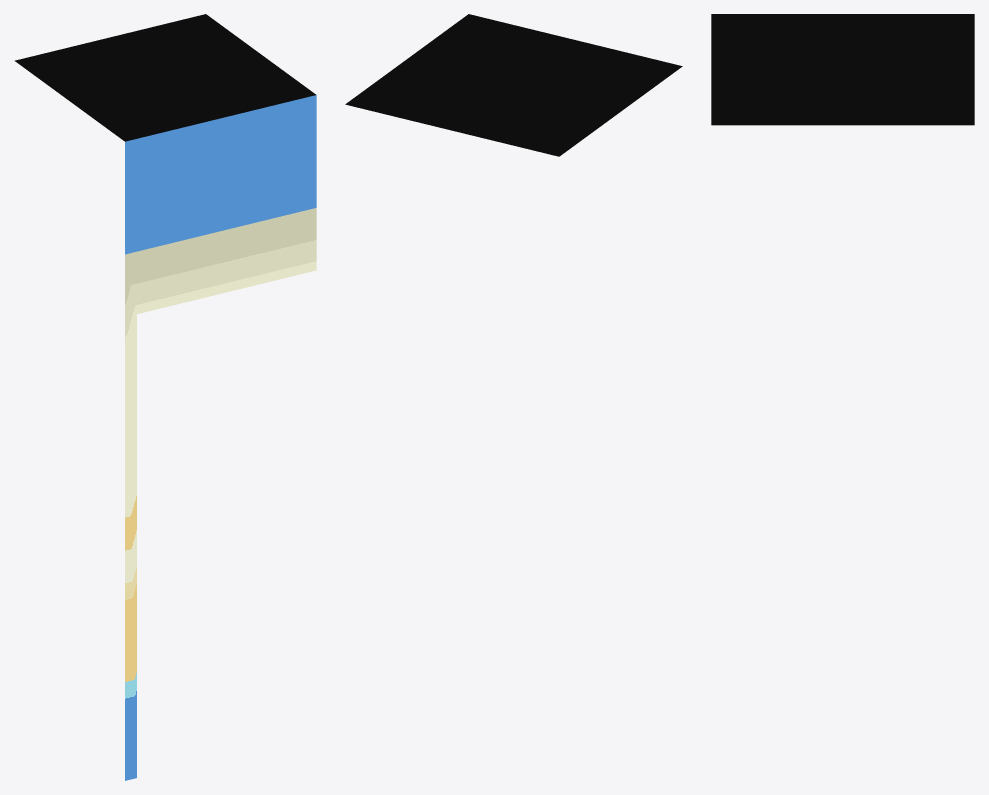
3 renders of one model, left to right at view 1: azimuth 30°, elevation 25°; view 2: azimuth 150°, elevation 25°; view 3: azimuth 270°, elevation 25°, orthographic. The views are drawn at different scales.
Bounding box in the file's own units: 1 × 3.19 × 1.
2 materials, 2 textured.
